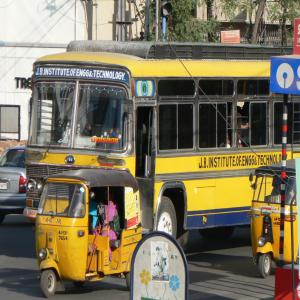Vehicle-registration-plate: (58, 230, 69, 242), (1, 183, 9, 192)
